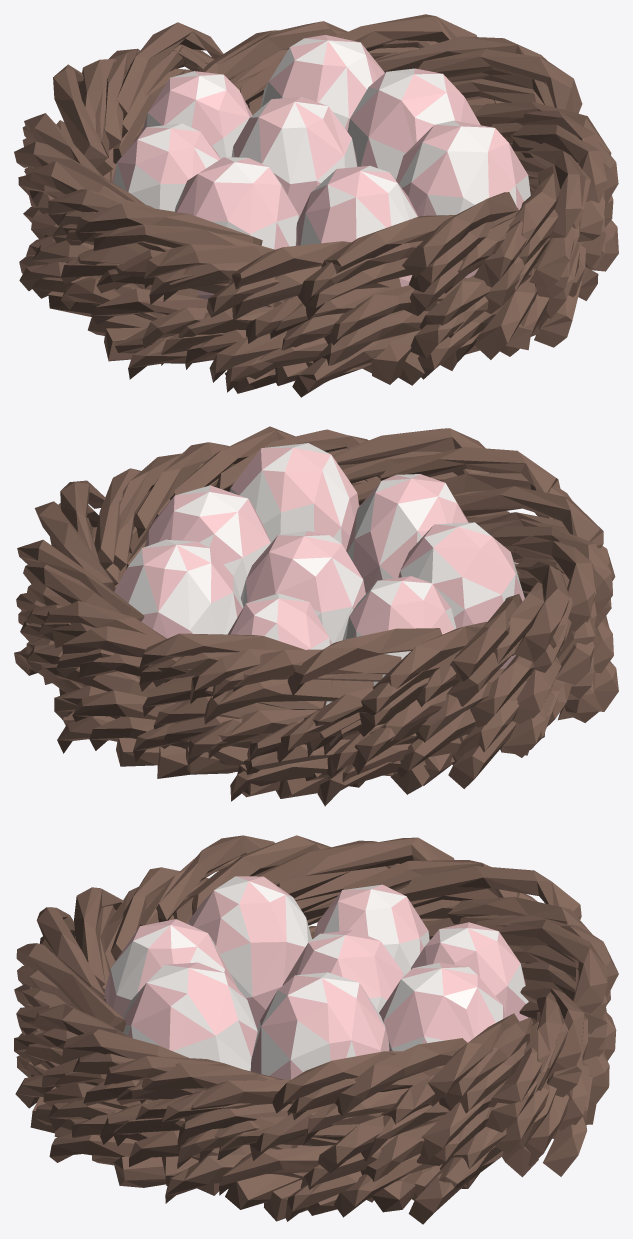
Rendered from Nest_21.fbx.
The picture shows the model from 3 angles, top to bottom: view 1: azimuth 30°, elevation 25°; view 2: azimuth 150°, elevation 25°; view 3: azimuth 270°, elevation 25°; orthographic projection.
Visible parts, largest first — view 1: Nest_21_LOD0; view 2: Nest_21_LOD0; view 3: Nest_21_LOD0.
Boxes of the visible parts, box(x1,y1,x2,y2) form: Nest_21_LOD0: box(14, 14, 618, 397); Nest_21_LOD0: box(14, 426, 618, 806); Nest_21_LOD0: box(14, 835, 618, 1224).
Size of what is drawn, in the model's own units: 78.57 by 28.61 by 77.13.
